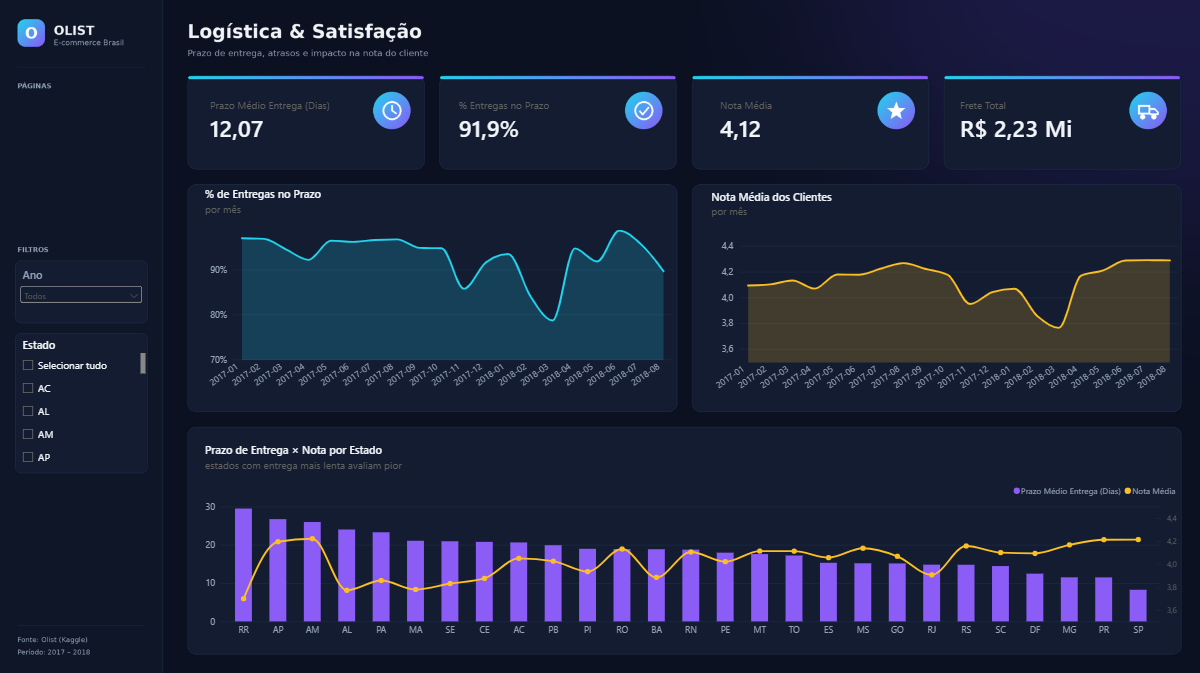

Layout of this report page (visuals, bound fields, positions):
{"tool":"powerbi","page":{"name":"Logística","canvas":[1920,1080],"ordinal":2},"visuals":[{"type":"cardVisual","fields":{"Data":["_Medidas.Prazo Médio Entrega"]},"box":[320,135,275,115],"z":0},{"type":"cardVisual","fields":{"Data":["_Medidas.% Entregas no Prazo"]},"box":[717.5,135,242.5,115],"z":1000},{"type":"cardVisual","fields":{"Data":["_Medidas.Frete Total"]},"box":[1520,135,252.5,115],"z":2000},{"type":"cardVisual","fields":{"Data":["_Medidas.Nota Média"]},"box":[1135,135,237.5,115],"z":3000},{"type":"lineChart","title":"% de Entregas no Prazo","fields":{"Category":["dCalendario.Ano-Mês"],"Y":["_Medidas.% Entregas no Prazo"]},"box":[312,284,780,368],"z":4000},{"type":"lineChart","title":"Nota Média dos Clientes","fields":{"Category":["dCalendario.Ano-Mês"],"Y":["_Medidas.Nota Média"]},"box":[1122,288,780,368],"z":7000},{"type":"lineClusteredColumnComboChart","title":"Prazo de Entrega × Nota por Estado","fields":{"Category":["dClientes.customer_state"],"Y":["_Medidas.Prazo Médio Entrega (Dias)"],"Y2":["_Medidas.Nota Média"]},"box":[312,694,1590,344],"z":8000},{"type":"pageNavigator","box":[14,172,232,196],"z":8001},{"type":"slicer","fields":{"Values":["dCalendario.Ano"]},"box":[28,428,204,88],"z":8002},{"type":"slicer","fields":{"Values":["dClientes.customer_state"]},"box":[27.1,539.3,204.5,211.7],"z":8003}]}

Visuals, with their boxes on the page's 1920x1080 design canvas (x1, y1, x2, y2). These are canvas units, not pixel positions in the 1200x673 screenshot, which may show the page scaled, cropped or inside an application window:
cardVisual - _Medidas.Prazo Médio Entrega: bbox=(320, 135, 595, 250)
cardVisual - _Medidas.% Entregas no Prazo: bbox=(718, 135, 960, 250)
cardVisual - _Medidas.Frete Total: bbox=(1520, 135, 1772, 250)
cardVisual - _Medidas.Nota Média: bbox=(1135, 135, 1372, 250)
"% de Entregas no Prazo" lineChart: bbox=(312, 284, 1092, 652)
"Nota Média dos Clientes" lineChart: bbox=(1122, 288, 1902, 656)
"Prazo de Entrega × Nota por Estado" lineClusteredColumnComboChart: bbox=(312, 694, 1902, 1038)
pageNavigator: bbox=(14, 172, 246, 368)
slicer - dCalendario.Ano: bbox=(28, 428, 232, 516)
slicer - dClientes.customer_state: bbox=(27, 539, 232, 751)
